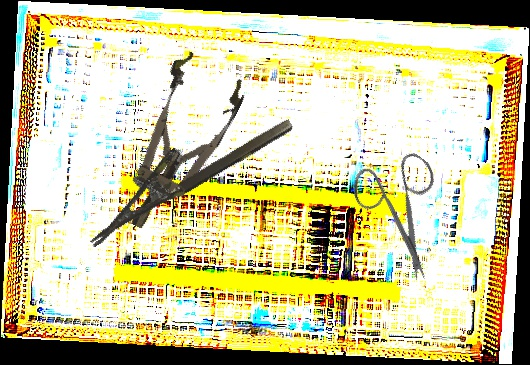Iris Scissors: (327, 133, 483, 285)
Needle Holder: (70, 91, 296, 248)
Speculum: (99, 47, 253, 244)
